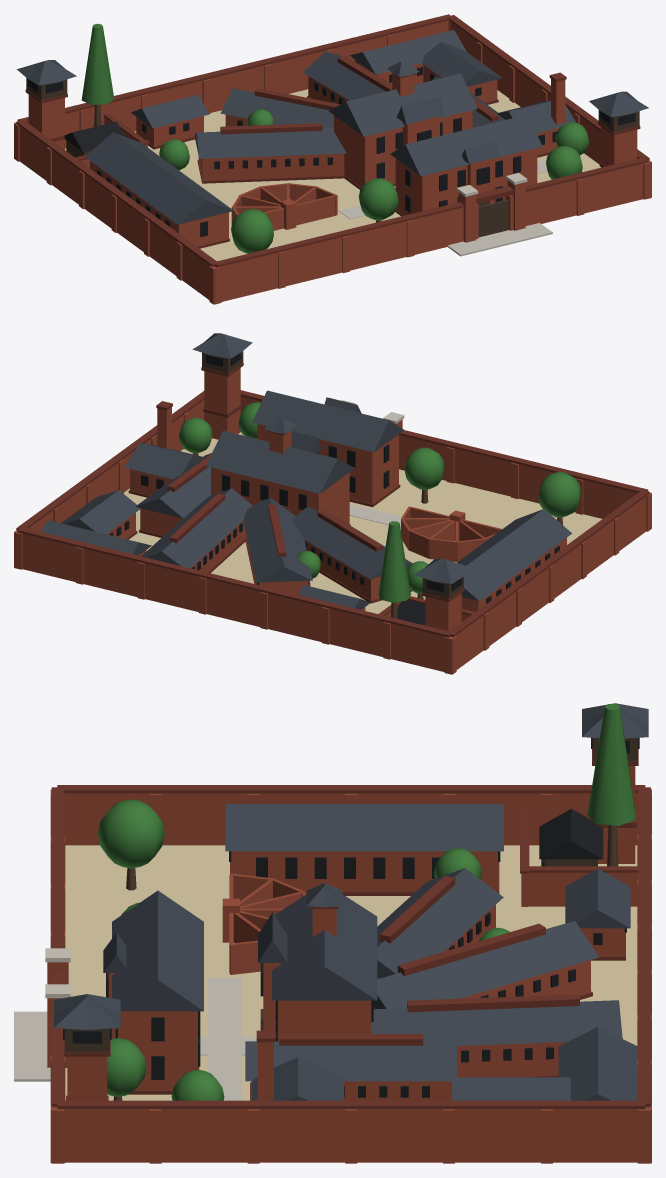
The model's file is seodaemun-prison.glb.
3 renders of one model, top to bottom at view 1: azimuth 30°, elevation 25°; view 2: azimuth 150°, elevation 25°; view 3: azimuth 270°, elevation 25°, orthographic. The views are drawn at different scales.
Bounding box in the file's own units: 57.1 × 15.5 × 47.85.
